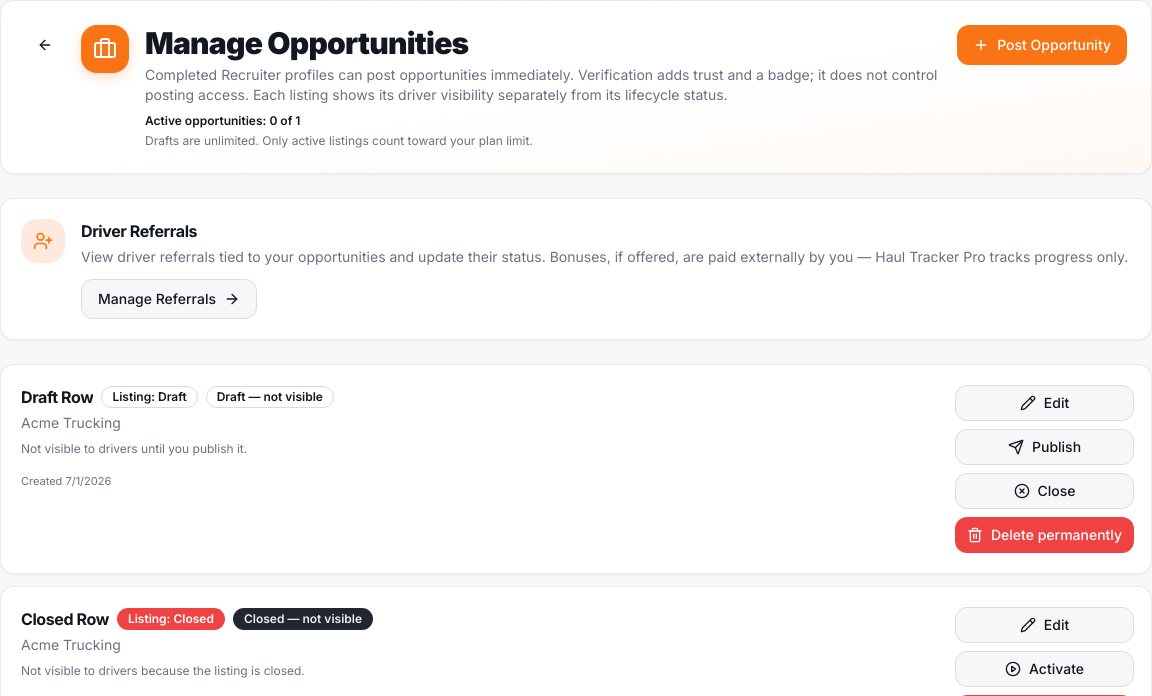
Test case: Phase 1L-F2D — confirmation dialog › opens with exact title
Expected: the element with test id "opportunity-row-opp-draft" is shown, [0, 364, 1151, 574]
Click the button with test id "delete-opportunity-opp-draft" at (1044, 535), box [955, 517, 1134, 553]
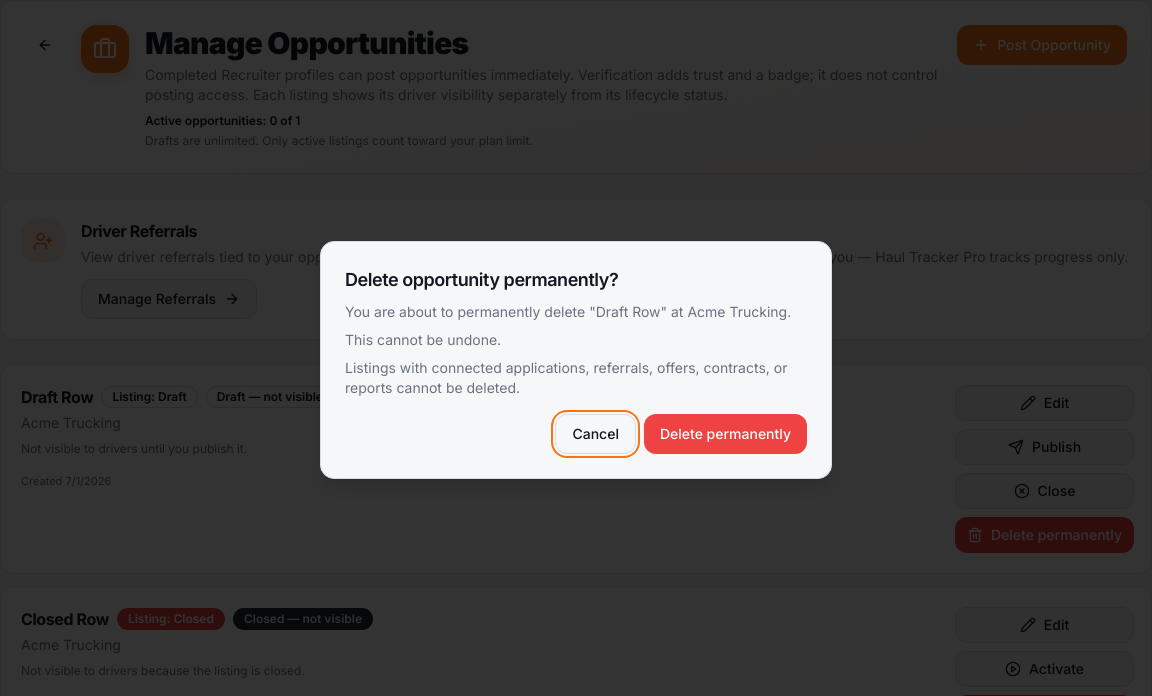
Result: the heading "Delete opportunity permanently?" is shown at [345, 269, 618, 290]
